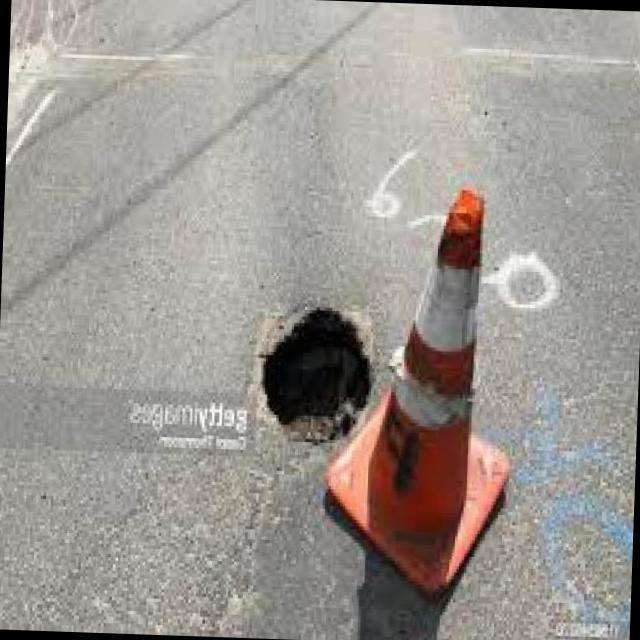Pothole: (255, 307, 373, 443)
